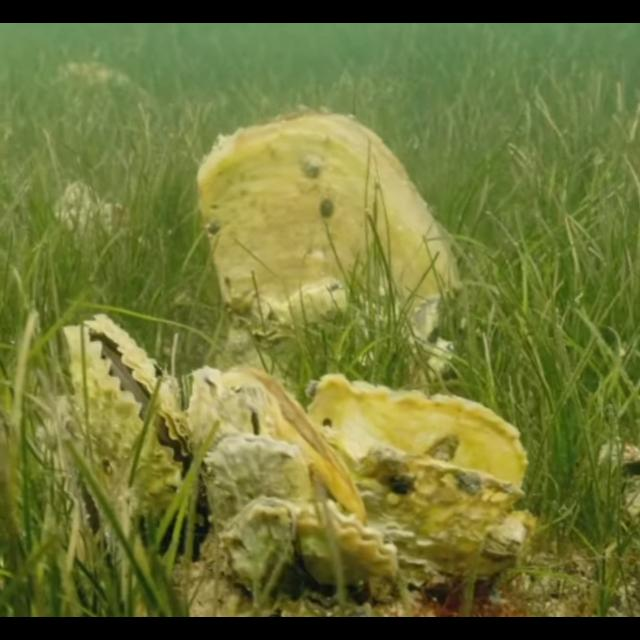Oyster-Closed: (196, 107, 464, 340), (185, 364, 367, 520), (201, 431, 307, 529)
Oyster-Open: (305, 373, 537, 584), (63, 314, 194, 526), (220, 494, 400, 604)
